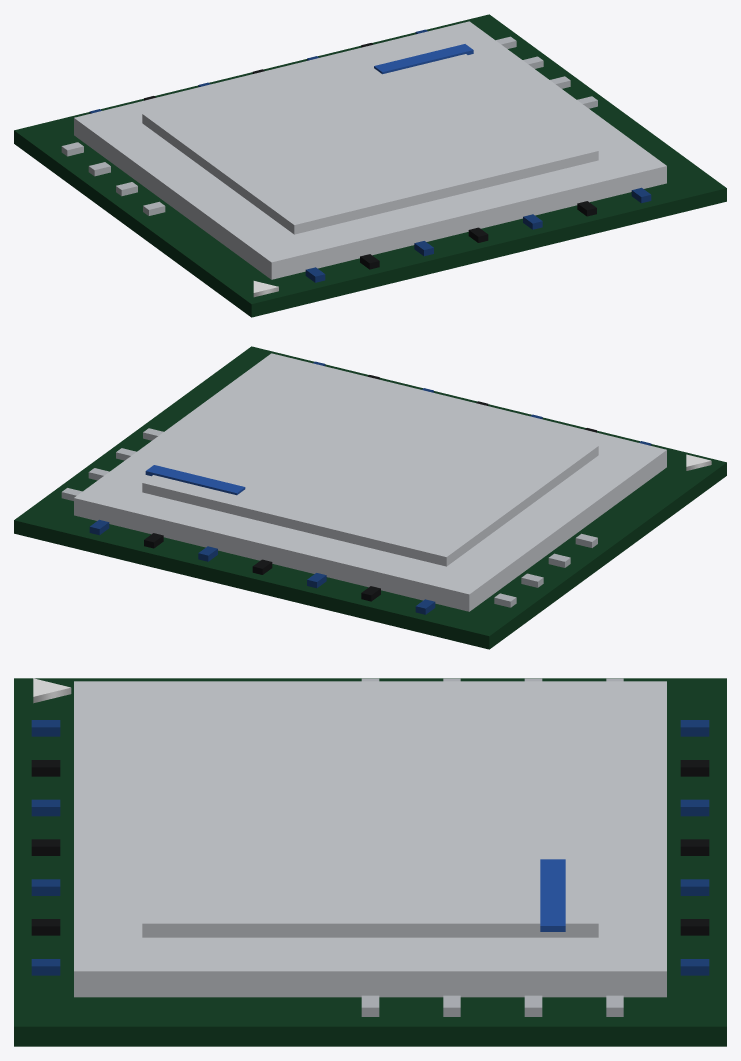
Rendered from hw_cpu_xeon_gold_6548y.glb.
3 renders of one model, top to bottom at view 1: azimuth 30°, elevation 25°; view 2: azimuth 150°, elevation 25°; view 3: azimuth 270°, elevation 25°, orthographic. The views are drawn at different scales.
Visible parts, largest first — view 1: Body; view 2: Body; view 3: Body.
Boxes of the visible parts, left/top/right/bottom form: Body: left=14, top=14, right=726, bottom=317; Body: left=14, top=346, right=726, bottom=649; Body: left=14, top=678, right=726, bottom=1046.
Size of the model in its own units: 0.052 by 0.00467 by 0.045.
